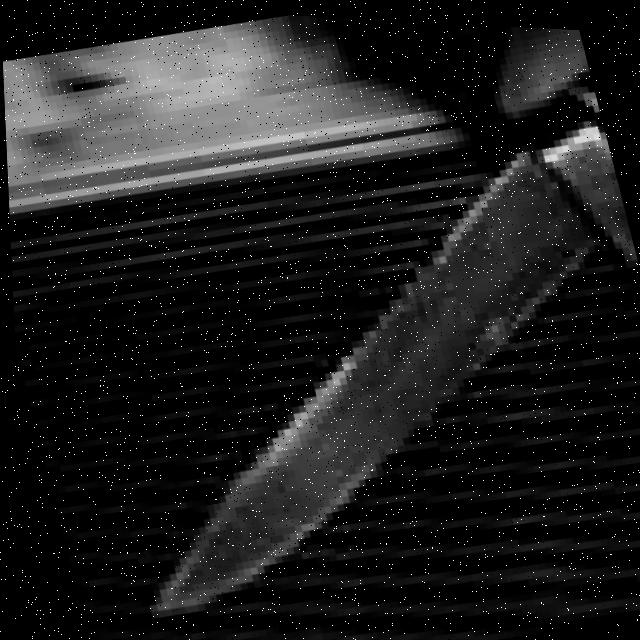knife: (34, 34, 640, 640)
